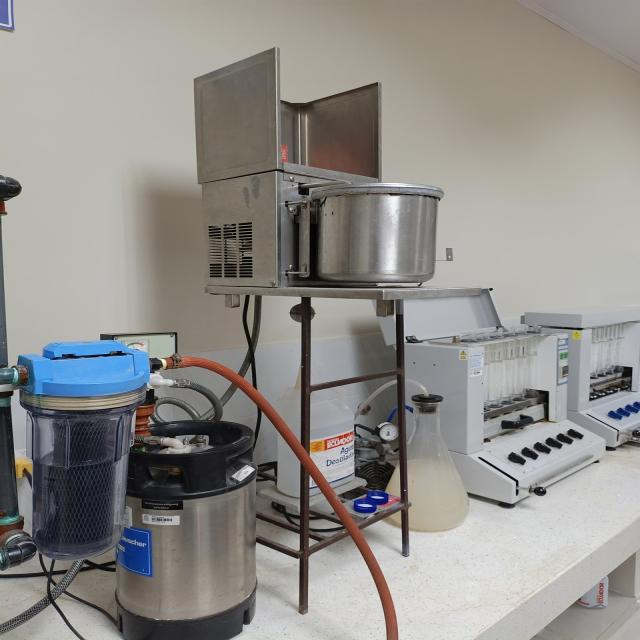Destilador_de_Agua_Continuo_Metalico: (195, 48, 442, 298)
